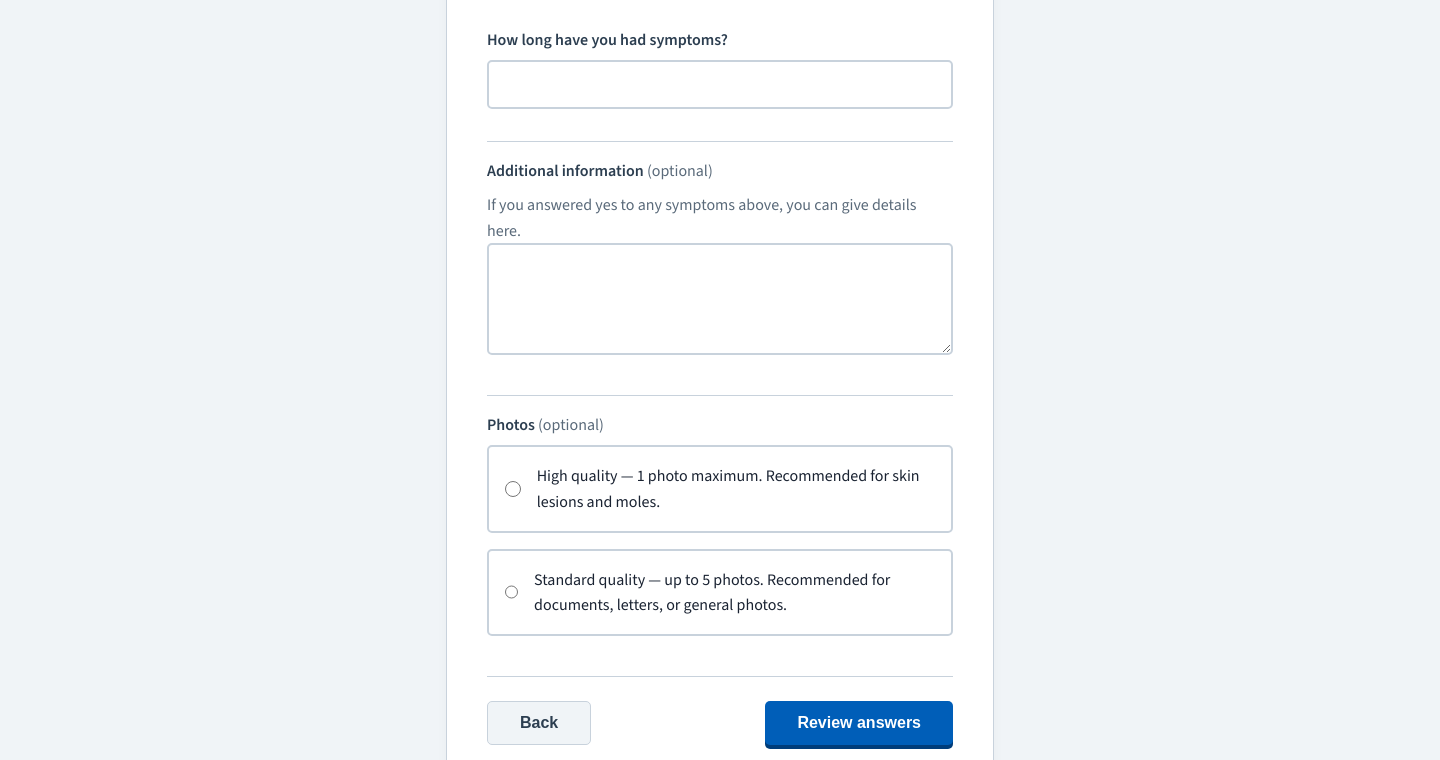
EditScreen › Continue button remains enabled when a required answer is missing, but clicking shows an error instead of submitting
(page scrolled)
Click the button "Review answers" at (859, 723), box [765,701,953,745]
(page scrolled)
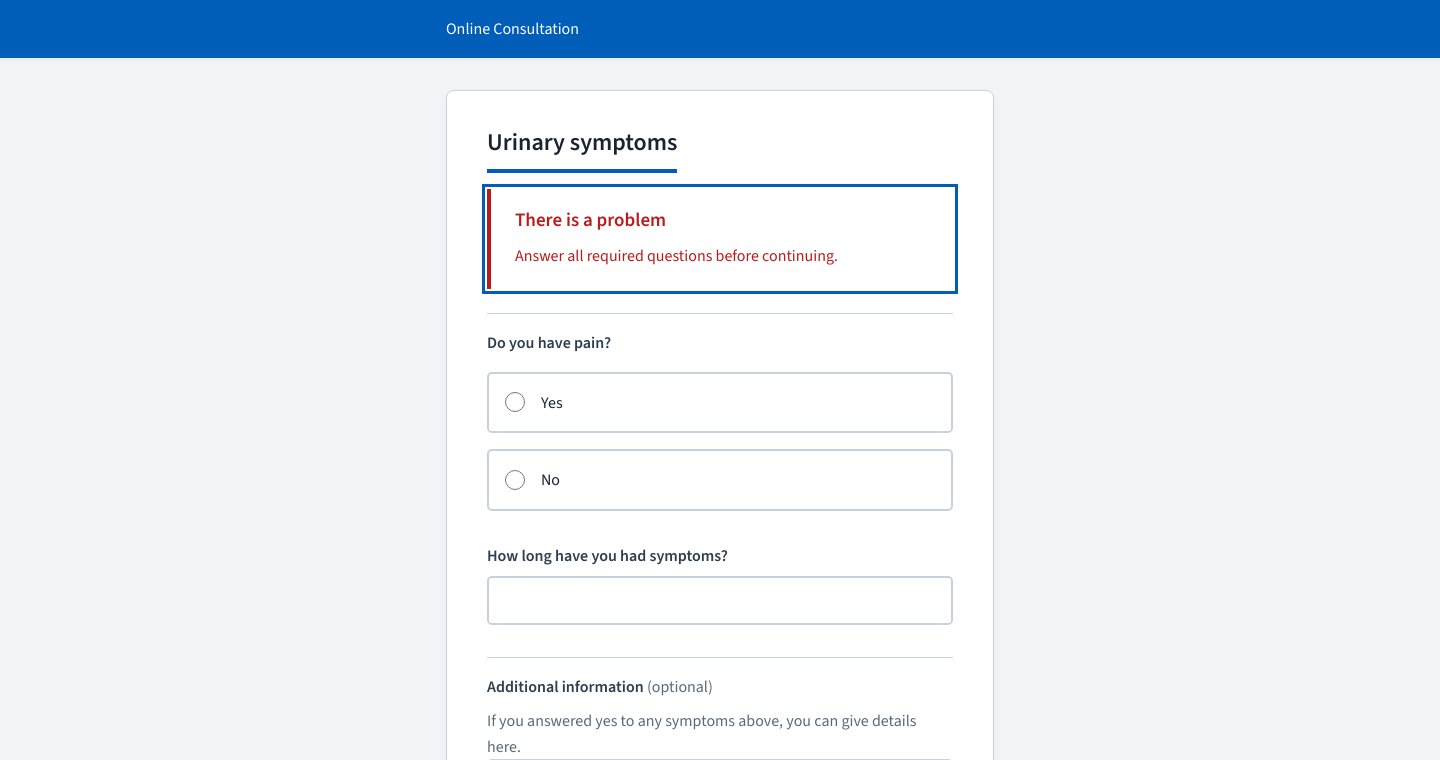
expect the list item "Answer all required questions before continuing." is shown: met, box [515,245,838,266]
